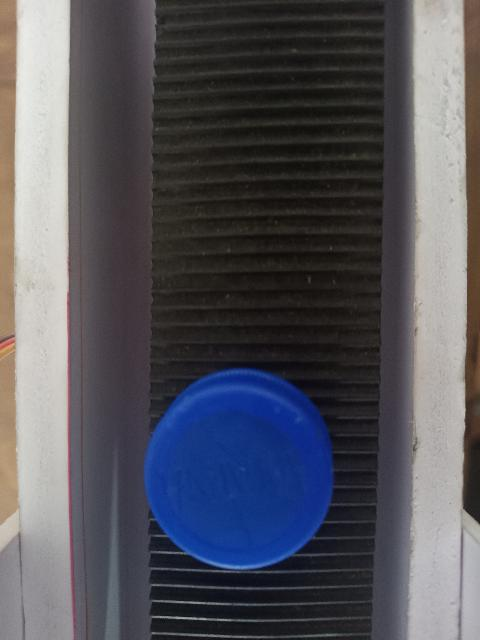bottlecap: (139, 367, 337, 575)
